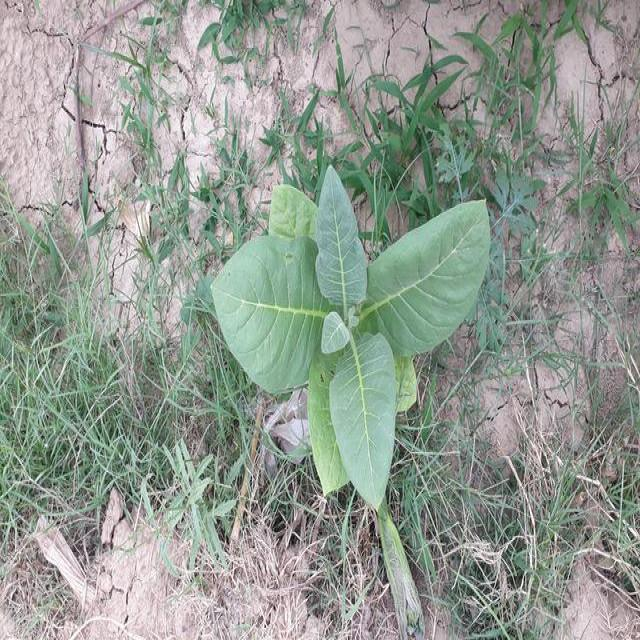crop: (226, 183, 491, 508)
